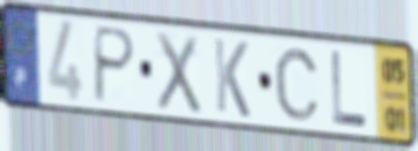4: (45, 16, 87, 108)
C: (272, 46, 323, 124)
K: (211, 34, 252, 121)
L: (329, 48, 370, 132)
P: (91, 23, 139, 106)
X: (153, 28, 204, 118)
